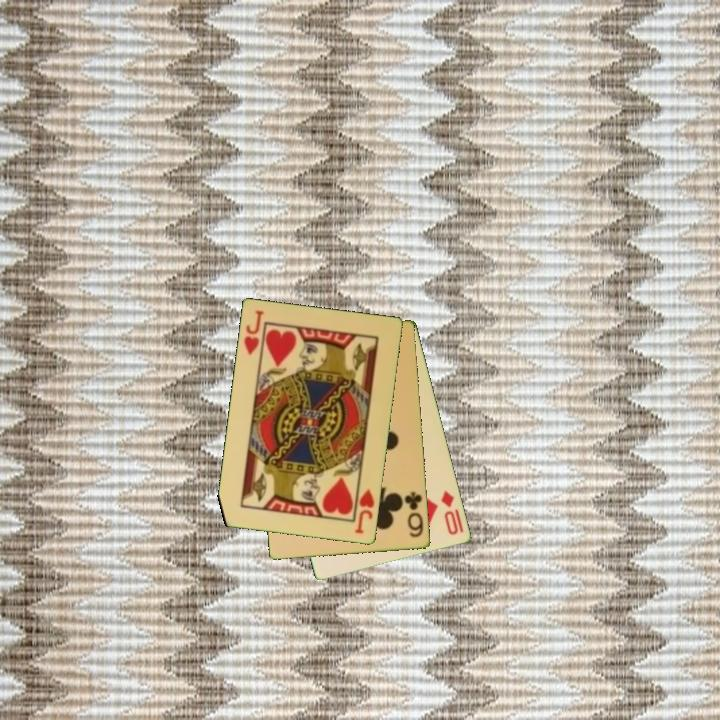10d: (438, 487, 467, 538)
6c: (401, 488, 427, 541)
Jh: (241, 307, 267, 358), (352, 486, 377, 537)
